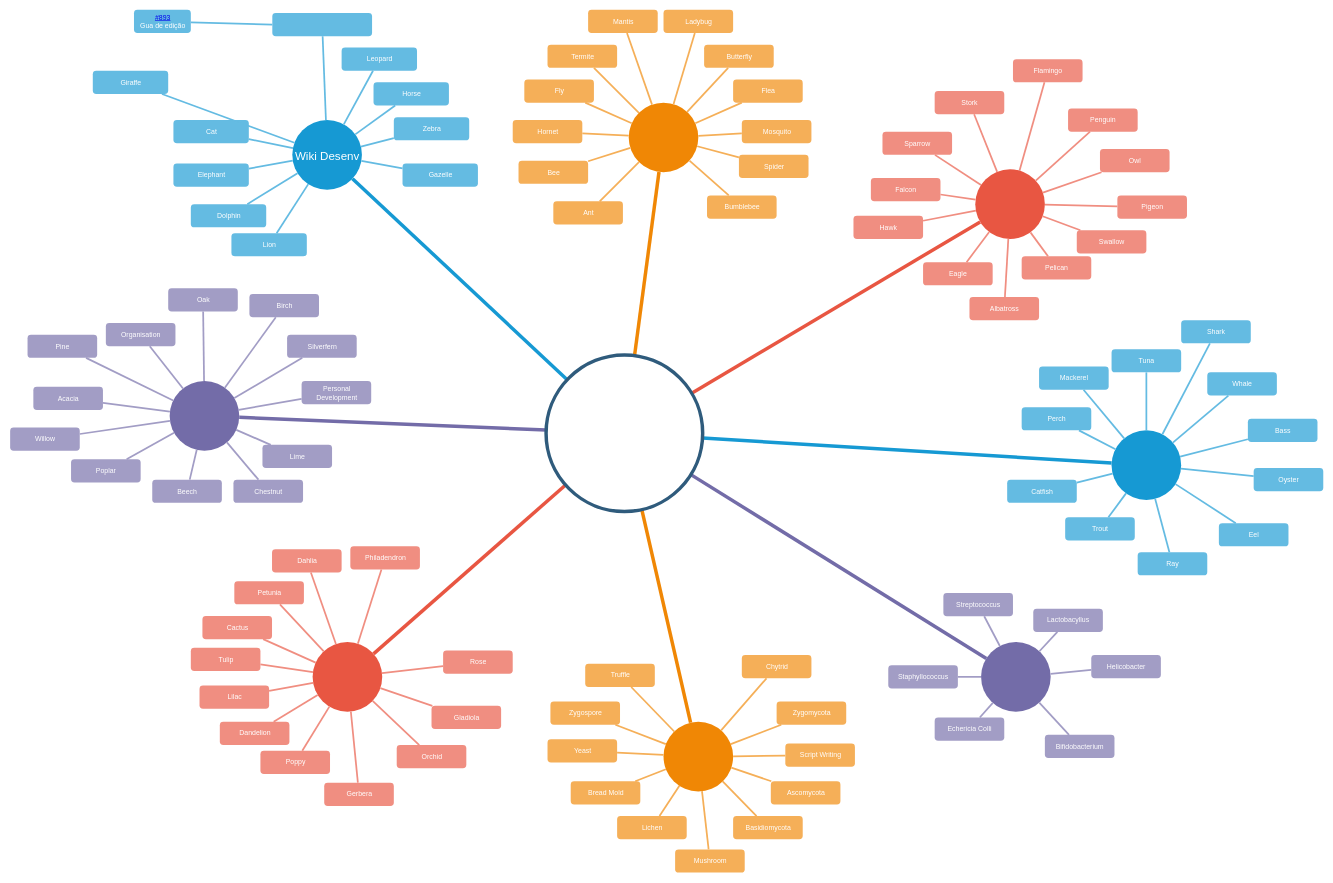
This 1333x883 diagram has some shape labels left out. Each missing label, with the centre of its shape:
"Bacteria" belongs at [1015,676].
"Bird" belongs at [1010,204].
"Construir ajuda do wiki" belongs at [322,24].
"Fish" belongs at [1146,465].
"Flower" belongs at [347,676].
"Fungi" belongs at [698,756].
"Insect" belongs at [663,137].
"Núcleo de Ferramentas" belongs at [624,433].
"Tree" belongs at [204,415].
